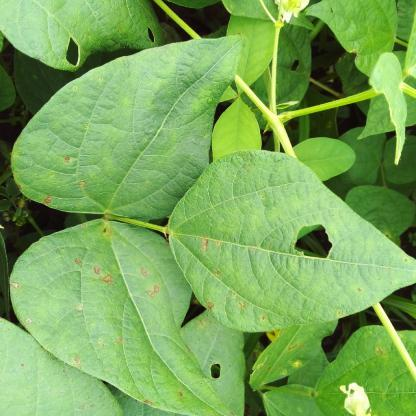Beans_Angular_LeafSpot: (184, 152, 410, 340), (11, 37, 249, 212), (1, 227, 212, 408)
